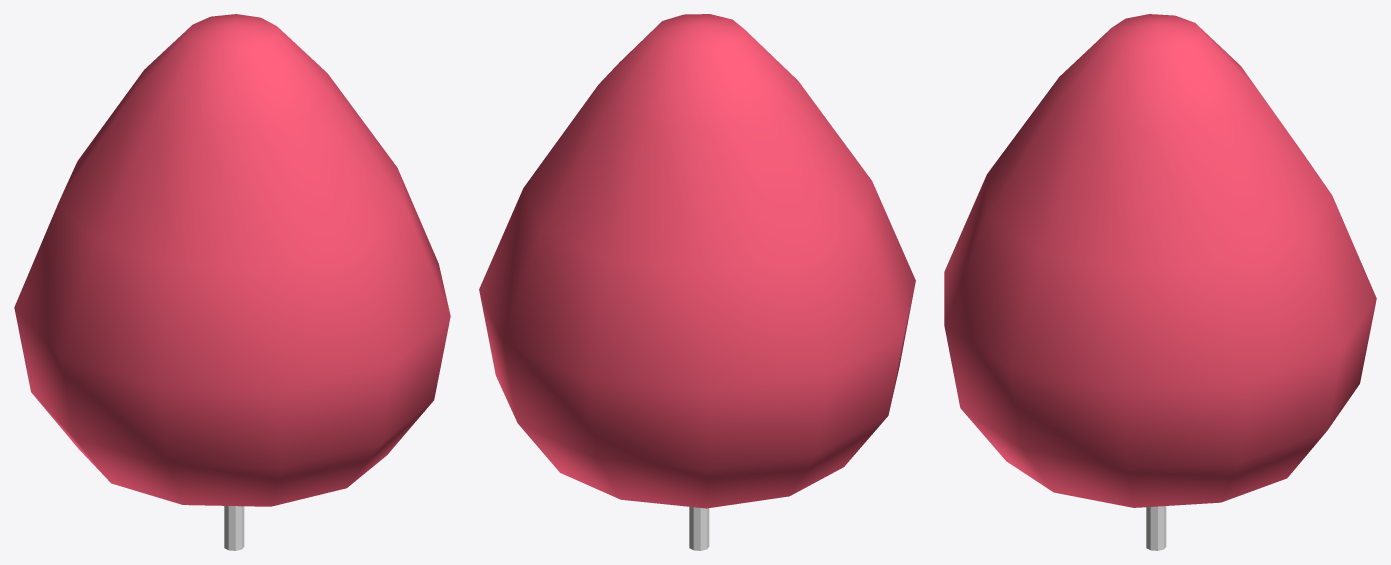
Rendered from 7_HotPinkTree.fbx.
The picture shows the model from 3 angles, left to right: view 1: azimuth 30°, elevation 25°; view 2: azimuth 150°, elevation 25°; view 3: azimuth 270°, elevation 25°; orthographic projection.
Visible parts, largest first — view 1: Sphere.069, Cylinder.055; view 2: Sphere.069, Cylinder.055; view 3: Sphere.069, Cylinder.055.
Part boxes in pixels (bbox=[...]): Sphere.069: bbox=[14, 14, 450, 506]; Cylinder.055: bbox=[224, 506, 244, 550]; Sphere.069: bbox=[479, 14, 915, 508]; Cylinder.055: bbox=[689, 507, 709, 550]; Sphere.069: bbox=[944, 14, 1376, 507]; Cylinder.055: bbox=[1146, 506, 1166, 550].
Size of the model in its own units: 119 by 157 by 118.
